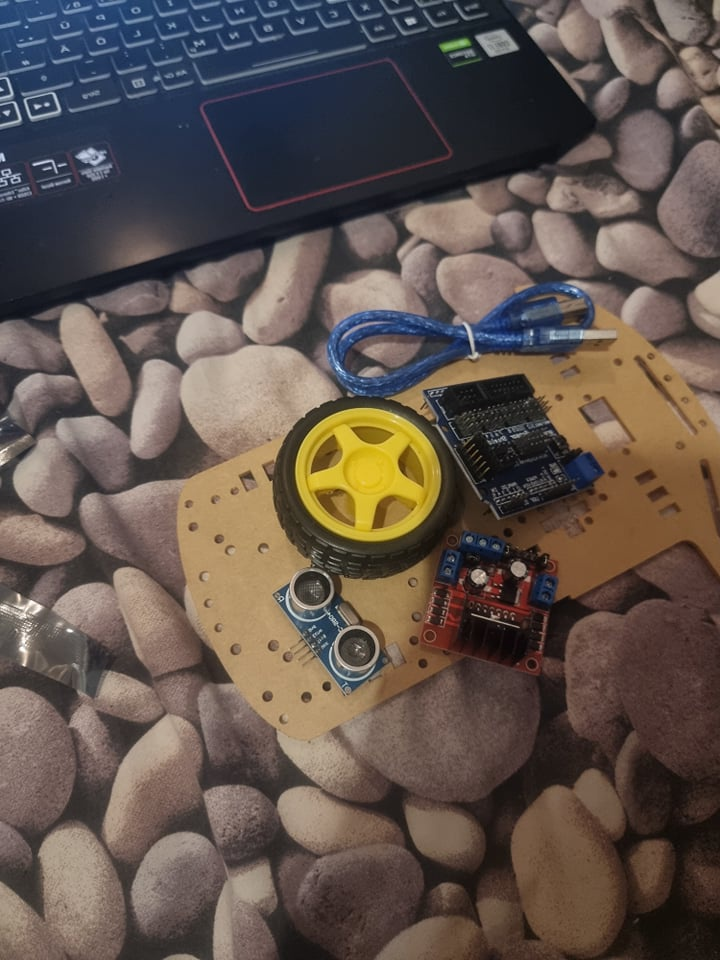5V EXPANSION: (422, 375, 604, 523)
MOTOR: (422, 539, 563, 673)
SENSOR: (277, 564, 386, 698)
